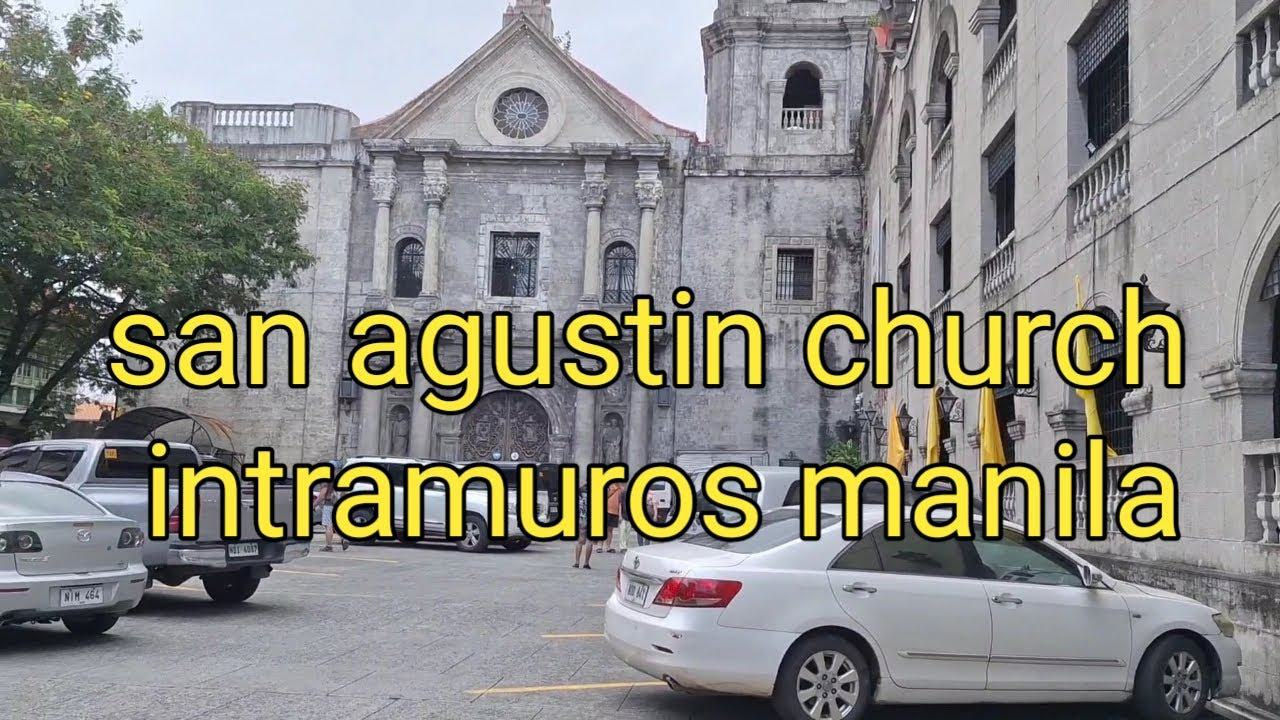San Agustin Church: (348, 5, 871, 487)
